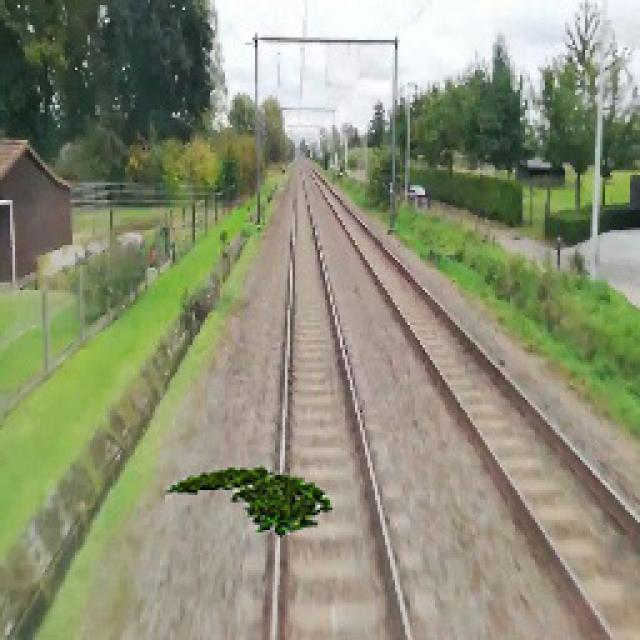rail: (226, 157, 449, 640)
